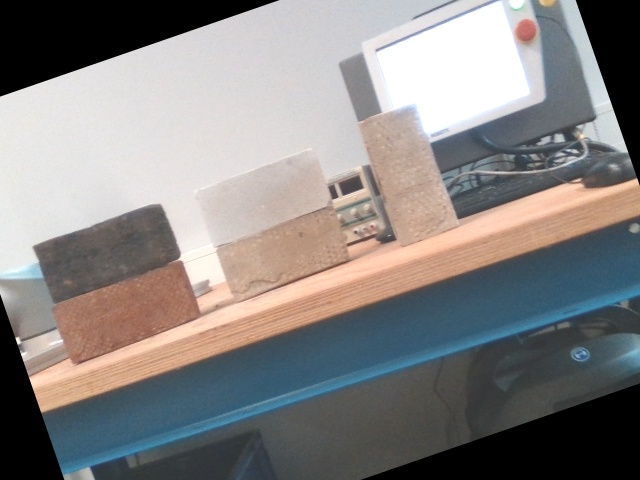brick: (54, 264, 196, 359), (35, 205, 176, 298), (362, 107, 453, 244), (198, 154, 330, 242), (219, 211, 346, 294)
